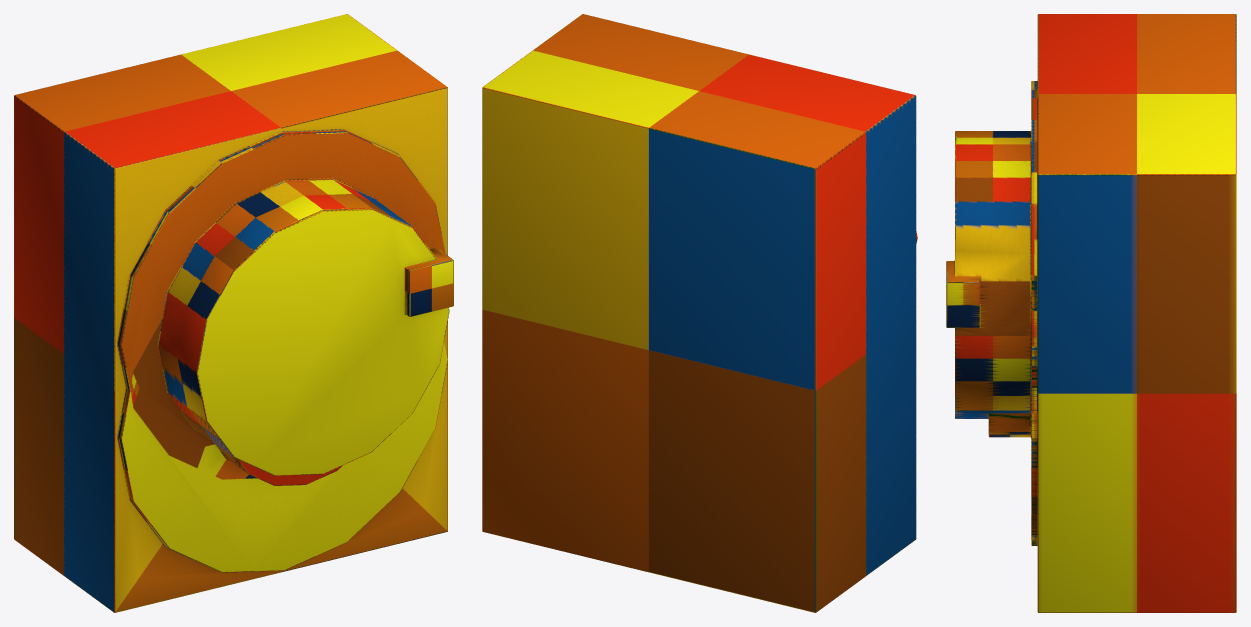
The model's file is garage-cable-spool.glb.
3 views of the same model, side by side, from view 1: azimuth 30°, elevation 25°; view 2: azimuth 150°, elevation 25°; view 3: azimuth 270°, elevation 25° (orthographic).
Parts seen in each view (by area): view 1: garage-cable-spool_export; view 2: garage-cable-spool_export; view 3: garage-cable-spool_export.
Boxes of the visible parts, x1=… form: garage-cable-spool_export: x1=14, y1=14, x2=453, y2=612; garage-cable-spool_export: x1=482, y1=14, x2=917, y2=612; garage-cable-spool_export: x1=946, y1=14, x2=1236, y2=612.
Bounding box in the file's own units: 0.4488 × 0.5712 × 0.3423.
1 material, 1 textured.
